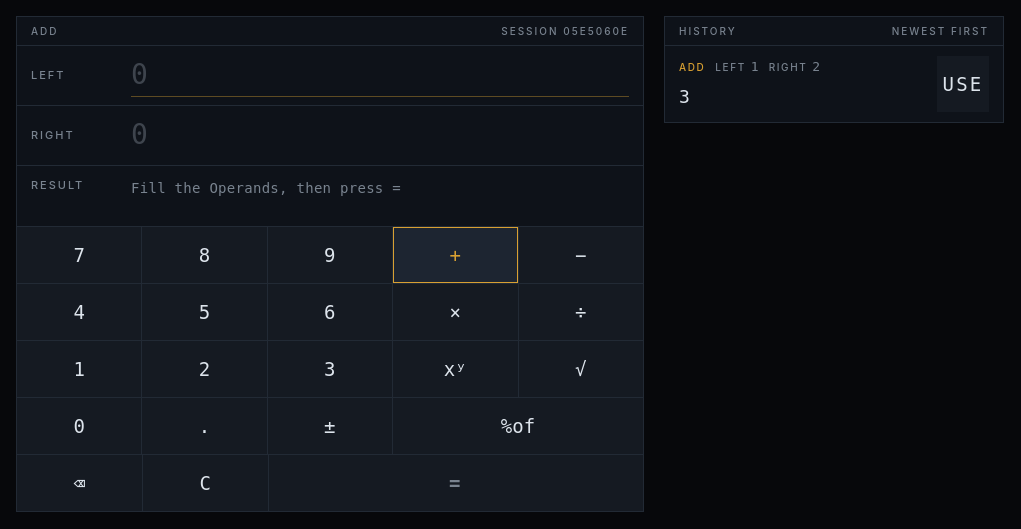
a Result carried out of History lands in the first Operand and entry moves on
Click the button with test id "history-use-result": (963, 84) [937,56,989,112]
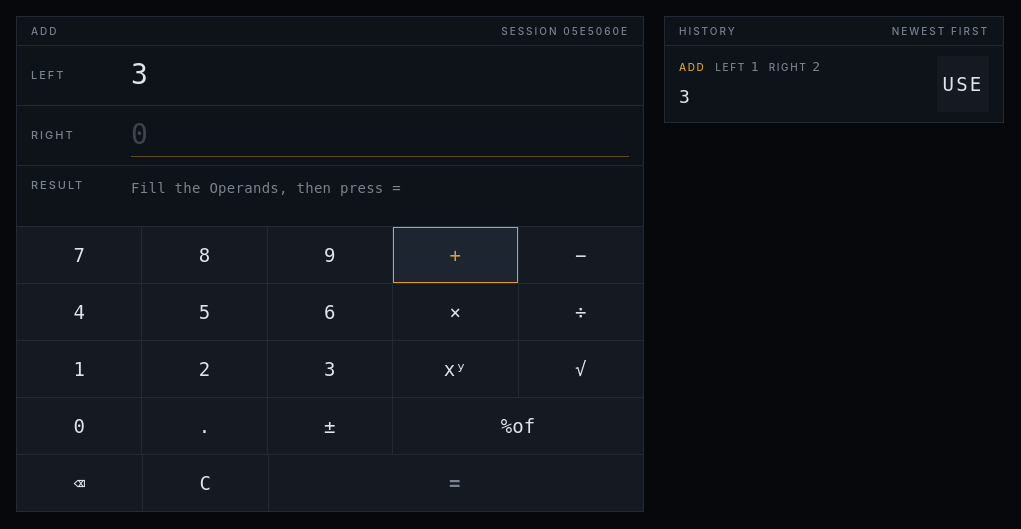
Check: the field with test id "operand-left" holds "3", box [131,54,629,97]
